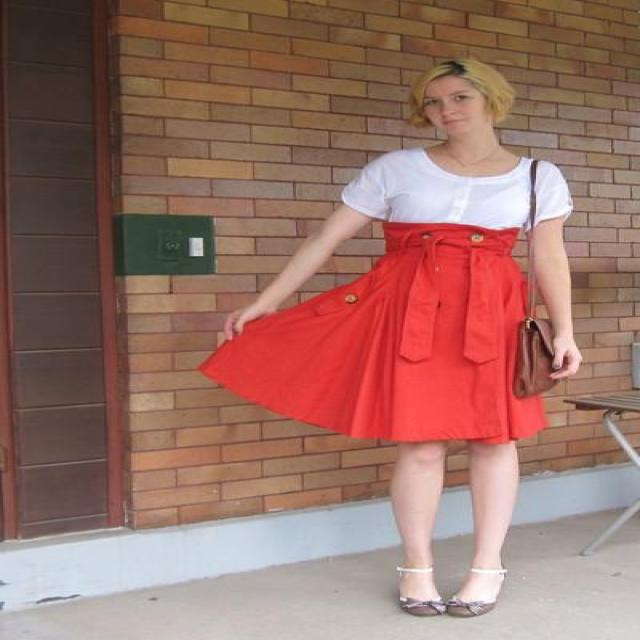bag: (512, 192, 562, 399)
dress: (200, 148, 571, 444)
shoe: (392, 590, 491, 617)
